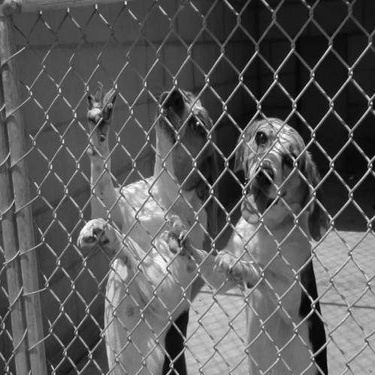dog: (66, 70, 217, 373), (166, 98, 326, 370)
